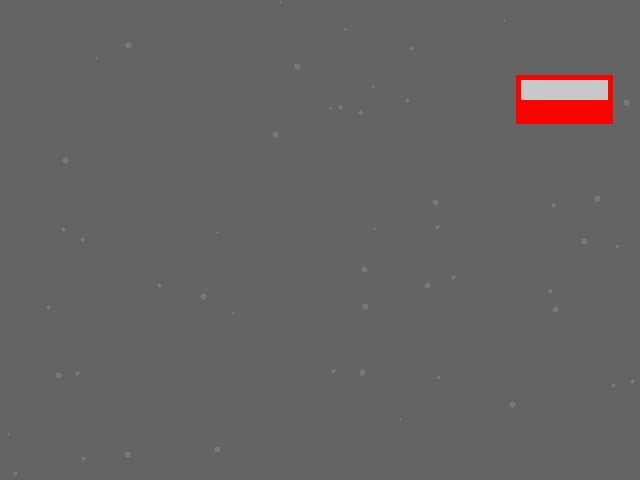car: (516, 75, 612, 123)
